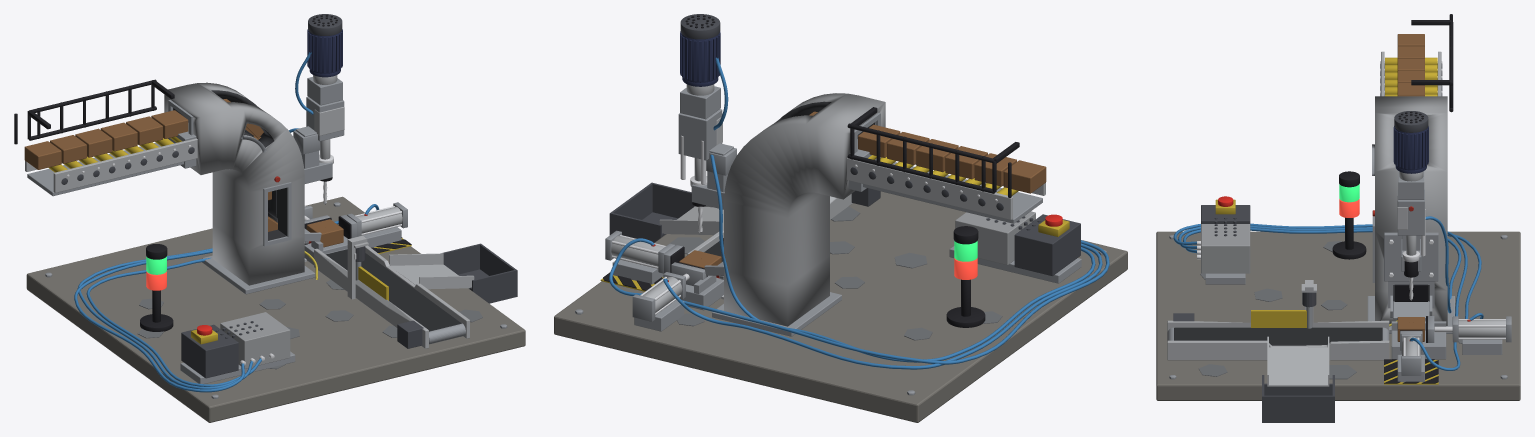
File: drill-station.glb
3 renders of one model, left to right at view 1: azimuth 30°, elevation 25°; view 2: azimuth 150°, elevation 25°; view 3: azimuth 270°, elevation 25°, orthographic. The views are drawn at different scales.
Visible parts, largest first — view 1: BasePlate, GantryBody, ConvRail, ValveWhite, BeltTop, ValveDark, BeltFrame, Tube_Clamp, Tube_C, ColFlange, Tube_Eject, ScrapBinWall2 (+29 smaller); view 2: BasePlate, GantryBody, ConvRail.001, ValveDark, Tube_Clamp, Tube_Eject, ValveWhite, Tube_C, SlideBody, ConvUnder, ColFlange, ScrapBinWall2 (+24 smaller); view 3: BasePlate, GantryBody, BeltFrame.001, BeltTop, ValveWhite, ChuteFloor, ScrapBinWall1, BrkPlate, Tube_Clamp, Tube_C, BeltFrame, GateBlade (+24 smaller).
Part boxes in pixels (box(x1,y1,x2,y2)): BasePlate: box(26, 196, 525, 422); GantryBody: box(164, 82, 304, 285); ConvRail: box(53, 138, 197, 192); ValveWhite: box(220, 312, 290, 368); BeltTop: box(326, 249, 461, 331); ValveDark: box(181, 324, 238, 378); BeltFrame: box(314, 248, 428, 348); Tube_Clamp: box(74, 204, 379, 392); Tube_C: box(86, 128, 298, 386); ColFlange: box(202, 255, 315, 294); Tube_Eject: box(77, 248, 253, 389); ScrapBinWall2: box(472, 269, 517, 301); BasePlate: box(554, 191, 1127, 422); GantryBody: box(724, 93, 885, 326); ConvRail.001: box(847, 158, 1012, 219); ValveDark: box(1014, 214, 1080, 275); Tube_Clamp: box(609, 238, 1109, 364); Tube_Eject: box(663, 243, 1102, 369); ValveWhite: box(955, 211, 1035, 265); Tube_C: box(710, 154, 1095, 362); SlideBody: box(678, 109, 722, 160); ConvUnder: box(863, 162, 1042, 223); ColFlange: box(712, 292, 841, 336); ScrapBinWall2: box(651, 182, 694, 218); BasePlate: box(1156, 231, 1520, 400); GantryBody: box(1375, 96, 1447, 325); BeltFrame.001: box(1167, 340, 1389, 360); BeltTop: box(1174, 327, 1382, 345); ValveWhite: box(1201, 224, 1250, 273); ChuteFloor: box(1267, 347, 1329, 386); ScrapBinWall1: box(1264, 395, 1332, 420); BrkPlate: box(1384, 232, 1438, 281); Tube_Clamp: box(1173, 223, 1467, 370); Tube_C: box(1183, 216, 1461, 313); BeltFrame: box(1167, 320, 1389, 331); GateBlade: box(1251, 310, 1306, 327).
Bounding box in the file's own units: 12.98 × 7.54 × 10.
